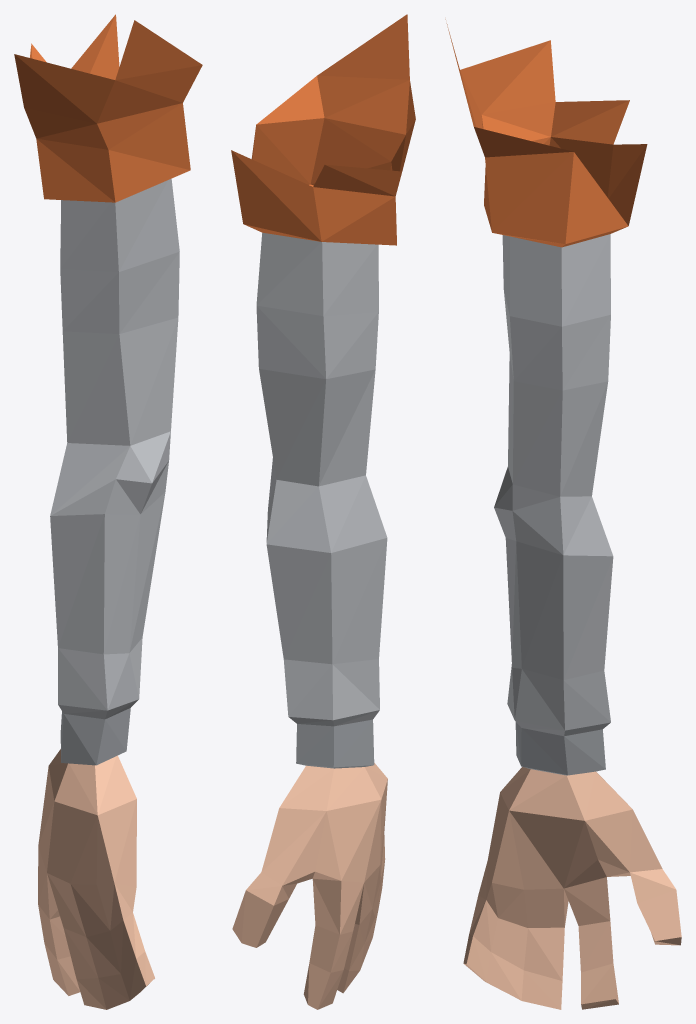
File: ArmL.obj
3 renders of one model, left to right at view 1: azimuth 30°, elevation 25°; view 2: azimuth 150°, elevation 25°; view 3: azimuth 270°, elevation 25°, orthographic. The views are drawn at different scales.
Size of the model in its own units: 0.1622 by 0.9107 by 0.1978.
1 material, 1 textured.
